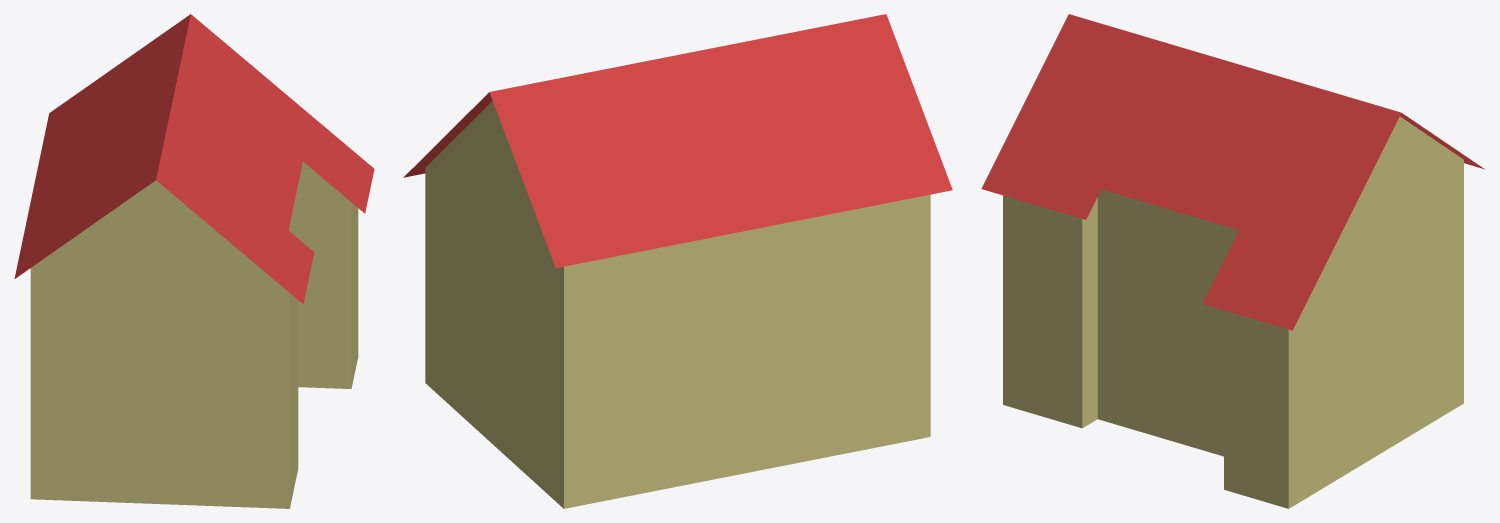
3 views of the same model, side by side, from view 1: azimuth 30°, elevation 25°; view 2: azimuth 150°, elevation 25°; view 3: azimuth 270°, elevation 25° (orthographic). The views are drawn at different scales.
Parts seen in each view (by area): view 1: group_5, group_3, group_4; view 2: group_5, group_3, group_4; view 3: group_5, group_3, group_4.
Part boxes in pixels (x1,y1,x2,y2): group_5: (30, 162, 358, 508); group_3: (14, 14, 374, 303); group_4: (14, 14, 374, 304); group_5: (425, 101, 930, 508); group_3: (403, 17, 952, 267); group_4: (489, 14, 952, 267); group_5: (1003, 116, 1463, 508); group_3: (981, 14, 1484, 330); group_4: (982, 113, 1400, 329).
Bounding box in the file's own units: 16.46 × 16.32 × 12.13.
